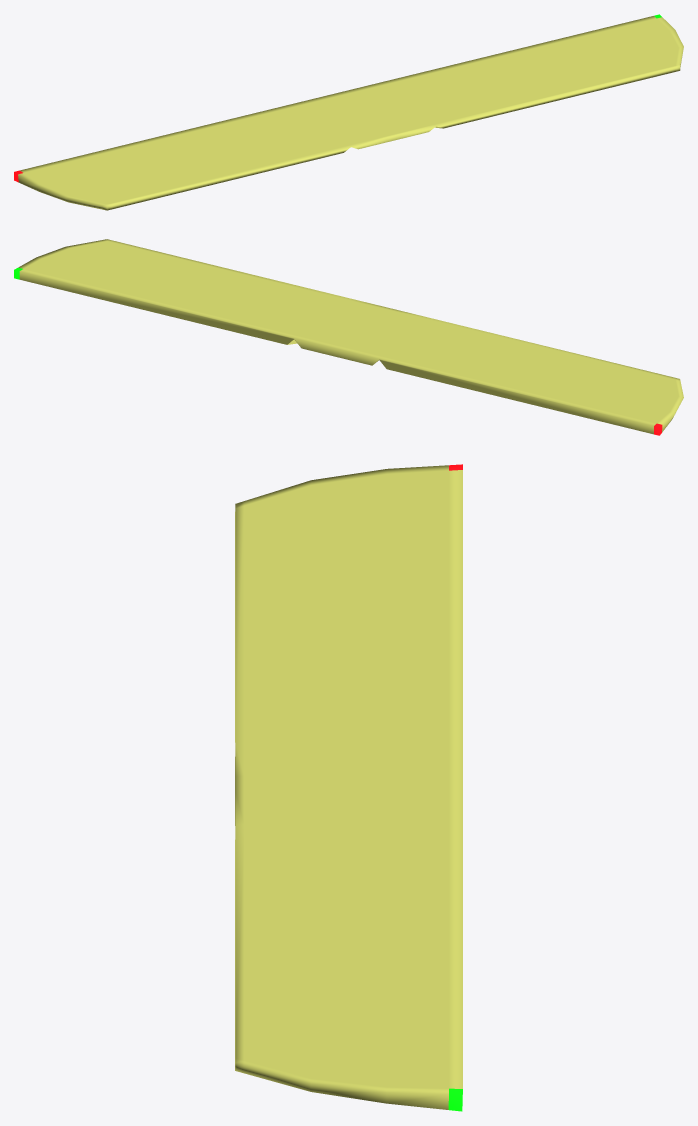
File: cessnagodotwing.glb
The picture shows the model from 3 angles, top to bottom: view 1: azimuth 30°, elevation 25°; view 2: azimuth 150°, elevation 25°; view 3: azimuth 270°, elevation 25°; orthographic projection. The views are drawn at different scales.
Visible parts, largest first — view 1: Fusalage.007; view 2: Fusalage.007; view 3: Fusalage.007.
Boxes of the visible parts, bbox=[...] form: Fusalage.007: bbox=[14, 14, 683, 210]; Fusalage.007: bbox=[14, 239, 683, 435]; Fusalage.007: bbox=[235, 464, 462, 1111].
Bounding box in the file's own units: 9.97 × 0.1262 × 1.52.
